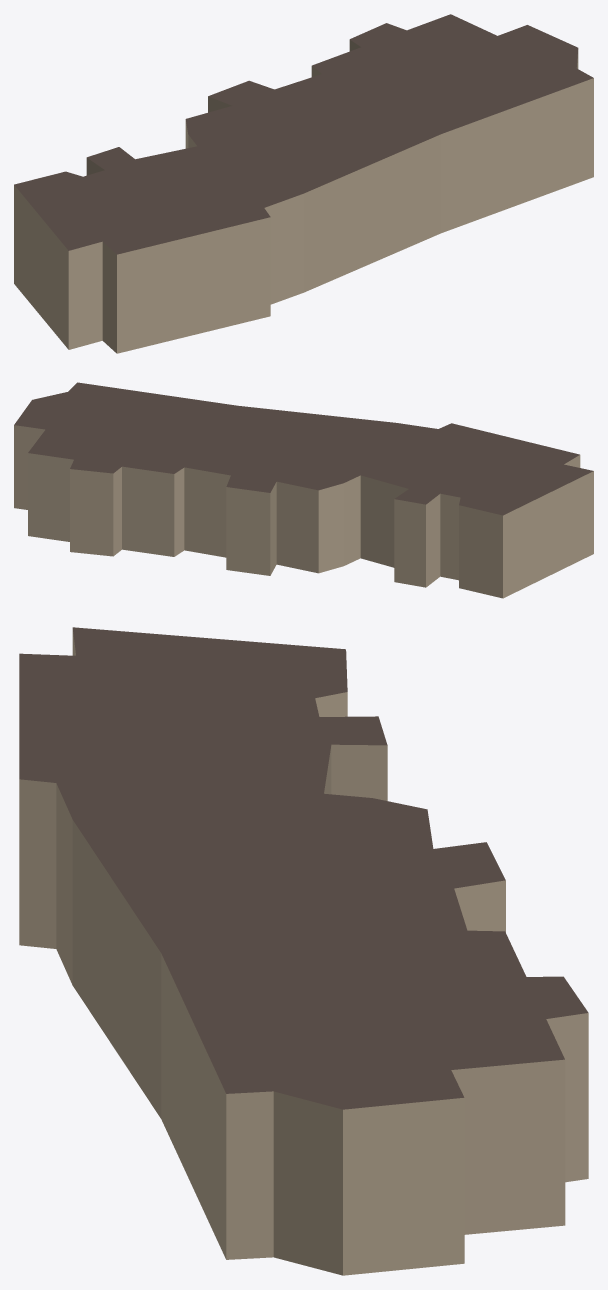
3 renders of one model, top to bottom at view 1: azimuth 30°, elevation 25°; view 2: azimuth 150°, elevation 25°; view 3: azimuth 270°, elevation 25°, orthographic. The views are drawn at different scales.
Visible parts, largest first — view 1: HP-w1512481857; view 2: HP-w1512481857; view 3: HP-w1512481857.
Boxes of the visible parts, x1,y1,x2,y2 form: HP-w1512481857: [14, 14, 593, 353]; HP-w1512481857: [14, 382, 593, 598]; HP-w1512481857: [19, 627, 588, 1275].
Bounding box in the file's own units: 56.08 × 9 × 27.97.
